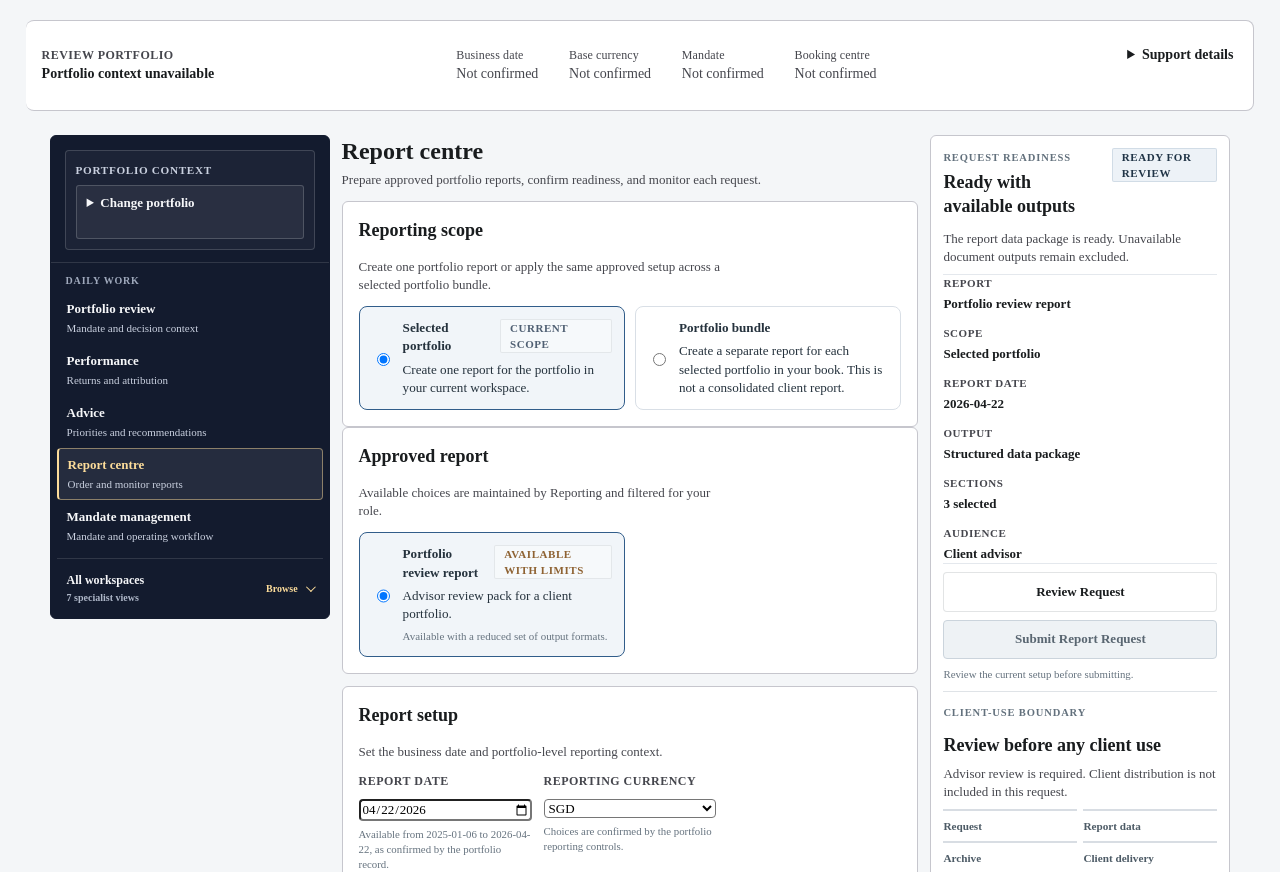
Test case: ReportOrderingWorkspace › selects the routed portfolio when source membership appears on a later book page
Expected: the heading "Approved report" is shown, [359,446,488,466]
Step 1. Click the radio button labelled "Portfolio bundle" → click(660, 360), box [653,322,666,397]
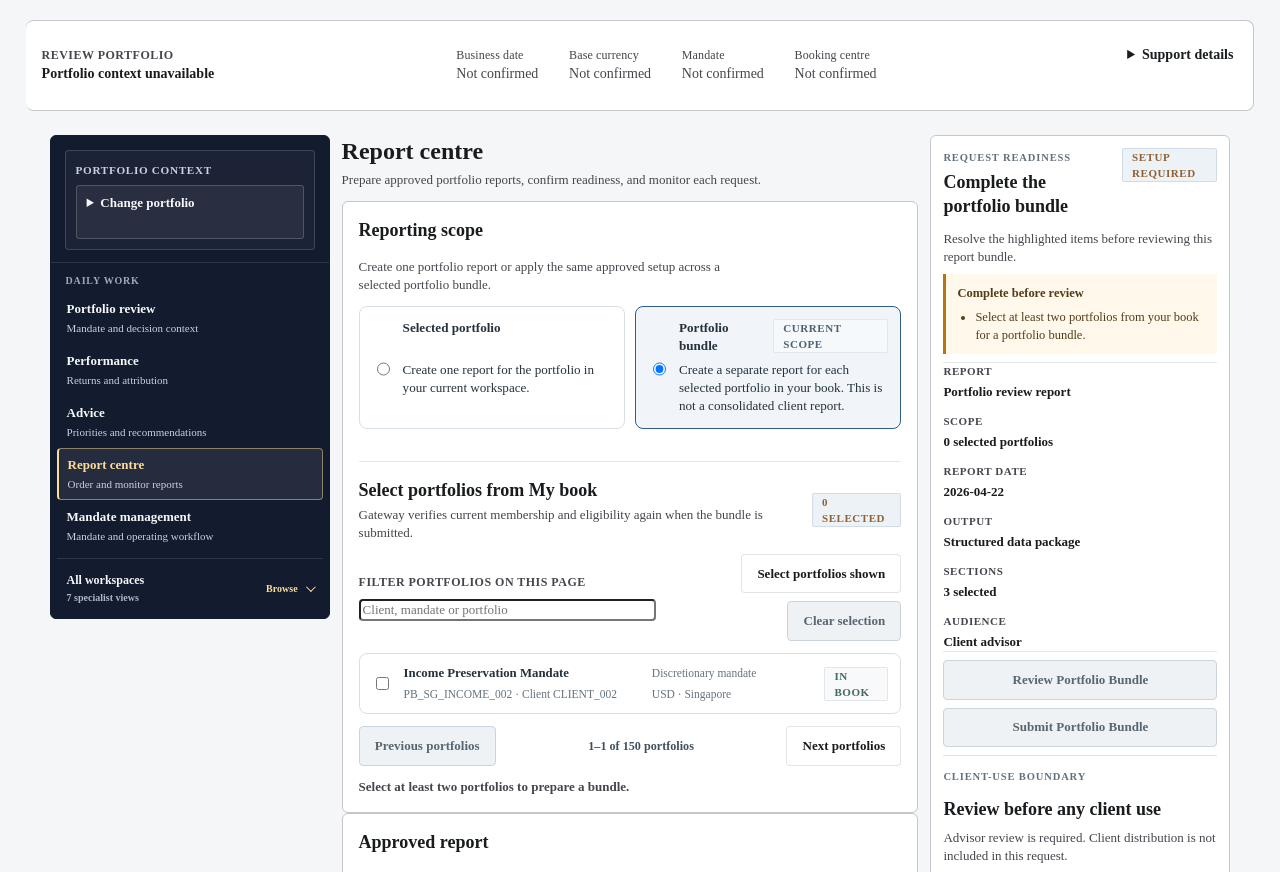
Now the text "0 selected" is shown, box [812,493,901,527]
Step 2. Click the button "Next portfolios" → click(844, 746), box [786,726,901,766]
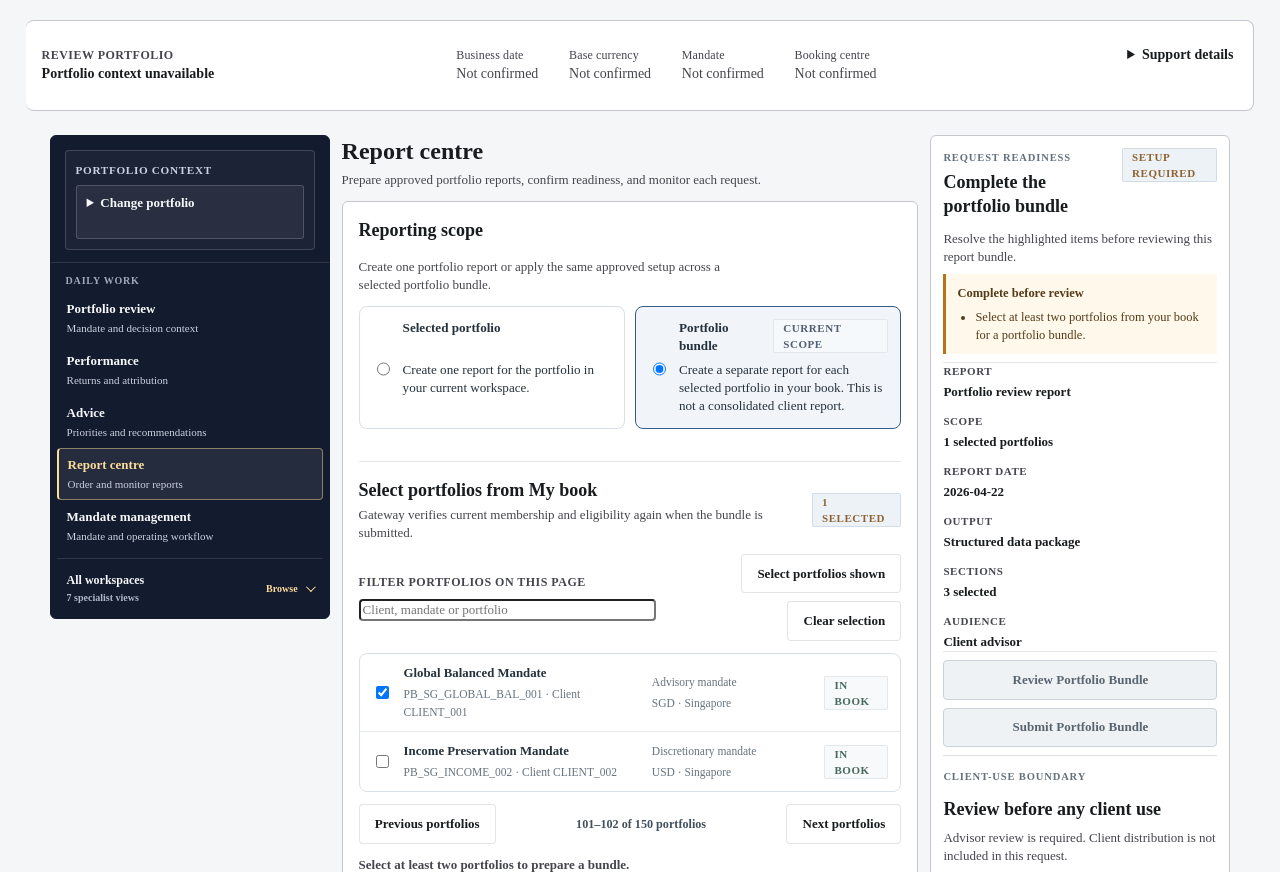
Now the checkbox labelled "Global Balanced Mandate" is checked, box [376,686,389,699]
Now the text "1 selected" is shown, box [812,493,901,527]
